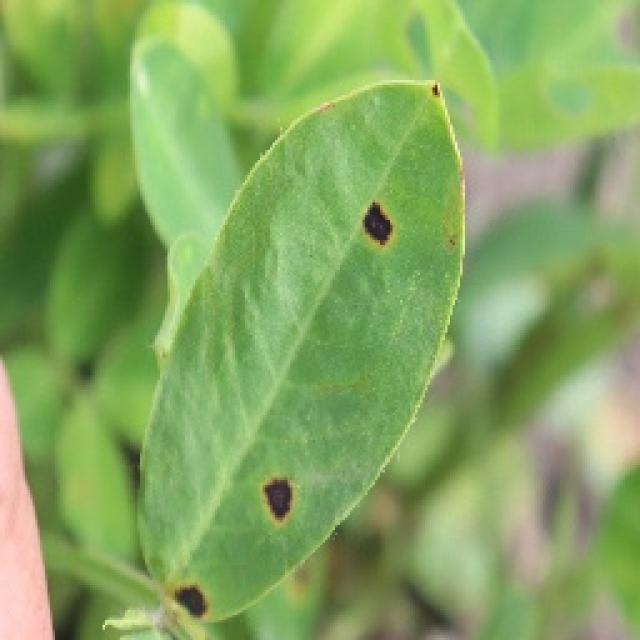Yellowish: (221, 454, 330, 566), (338, 178, 426, 270), (116, 574, 234, 636), (405, 51, 465, 148)
